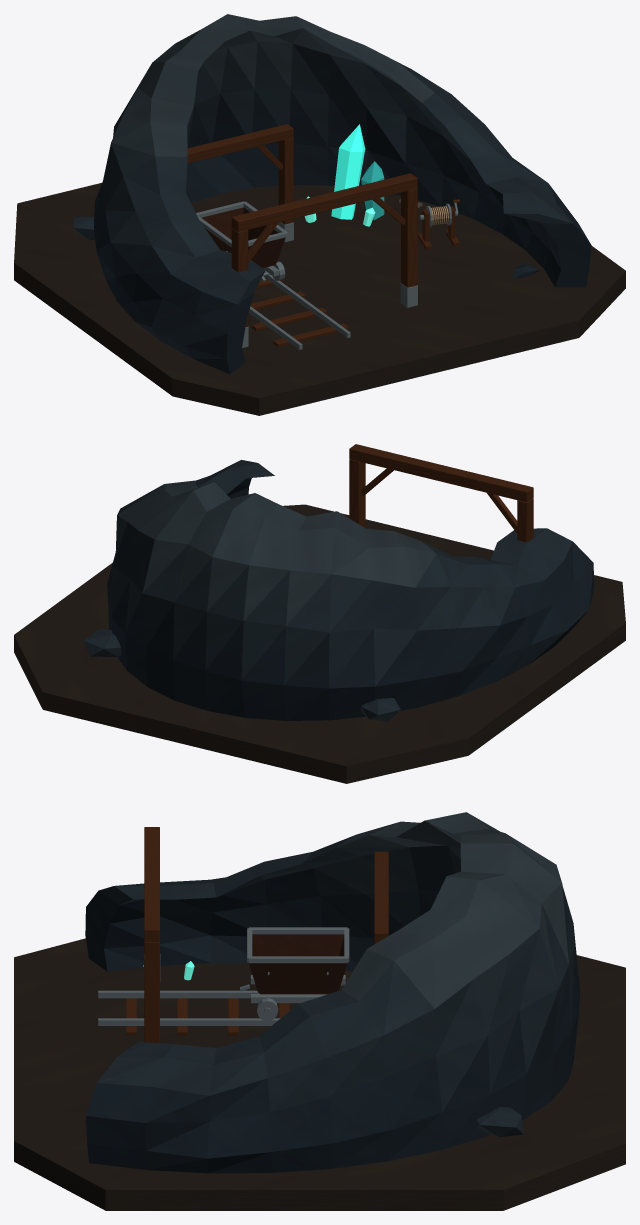
The picture shows the model from 3 angles, top to bottom: view 1: azimuth 30°, elevation 25°; view 2: azimuth 150°, elevation 25°; view 3: azimuth 270°, elevation 25°; orthographic projection. The views are drawn at different scales.
Visible parts, largest first — view 1: cave_enclosure__continuous_cutaway_rock, floor__cut_stone_plinth, entrance_support__lintel, entrance_support, focal_crystal__six_sided_growth, inner_support__lintel, abandoned_cart, inner_support, entrance_support__post_-1, rail_right__beam, abandoned_cart__end_plate_-1, focal_companion__six_sided_growth; view 2: cave_enclosure__continuous_cutaway_rock, floor__cut_stone_plinth, entrance_support__lintel, entrance_support, wall_boulder__weathered_mass, left_boulder__weathered_mass, entrance_support__post_-1; view 3: cave_enclosure__continuous_cutaway_rock, floor__cut_stone_plinth, abandoned_cart, abandoned_cart__side_plate_-1, entrance_support__lintel, entrance_support, inner_support__lintel, rail_right__beam, rail_left__beam, wall_boulder__weathered_mass, abandoned_cart__long_rim_-1.
Boxes of the visible parts, <box> form: cave_enclosure__continuous_cutaway_rock: <box>94,14,591,373</box>; floor__cut_stone_plinth: <box>14,183,625,415</box>; entrance_support__lintel: <box>231,173,417,232</box>; entrance_support: <box>372,188,417,307</box>; focal_crystal__six_sided_growth: <box>331,124,365,219</box>; inner_support__lintel: <box>187,124,293,163</box>; abandoned_cart: <box>196,201,287,280</box>; inner_support: <box>257,138,293,242</box>; entrance_support__post_-1: <box>231,228,248,327</box>; rail_right__beam: <box>264,271,350,338</box>; abandoned_cart__end_plate_-1: <box>248,237,285,267</box>; focal_companion__six_sided_growth: <box>361,161,384,220</box>; cave_enclosure__continuous_cutaway_rock: <box>107,460,594,720</box>; floor__cut_stone_plinth: <box>14,504,625,783</box>; entrance_support__lintel: <box>349,444,533,502</box>; entrance_support: <box>349,459,393,527</box>; wall_boulder__weathered_mass: <box>83,629,121,656</box>; left_boulder__weathered_mass: <box>361,698,400,721</box>; entrance_support__post_-1: <box>517,498,533,542</box>; cave_enclosure__continuous_cutaway_rock: <box>85,812,579,1173</box>; floor__cut_stone_plinth: <box>14,938,625,1210</box>; abandoned_cart: <box>248,928,349,1021</box>; abandoned_cart__side_plate_-1: <box>252,934,344,956</box>; entrance_support__lintel: <box>144,827,159,942</box>; entrance_support: <box>144,942,159,1043</box>; inner_support__lintel: <box>374,851,388,943</box>; rail_right__beam: <box>98,1018,280,1025</box>; rail_left__beam: <box>98,990,259,998</box>; wall_boulder__weathered_mass: <box>476,1107,523,1137</box>; abandoned_cart__long_rim_-1: <box>249,927,347,934</box>.
Size of the model in its own units: 12 by 5.15 by 12.
12 materials, 7 textured.
